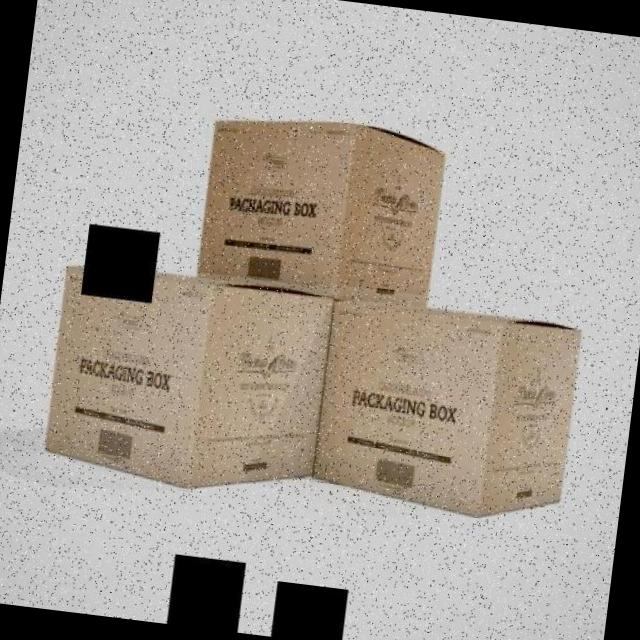box: (36, 256, 335, 507), (309, 284, 593, 538), (184, 96, 466, 323)
